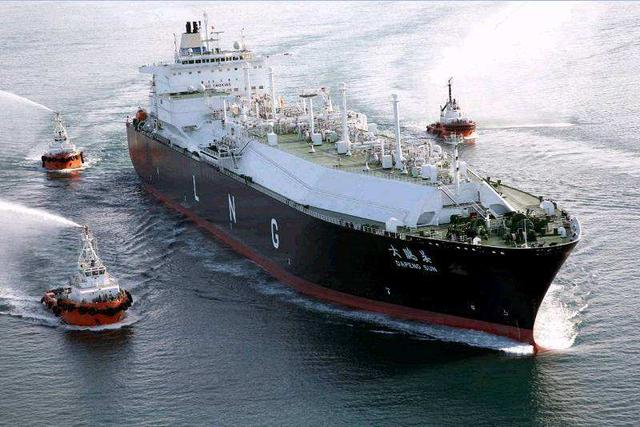Cargoship: (126, 12, 589, 360)
otherboat: (37, 227, 137, 328), (34, 115, 86, 175)
